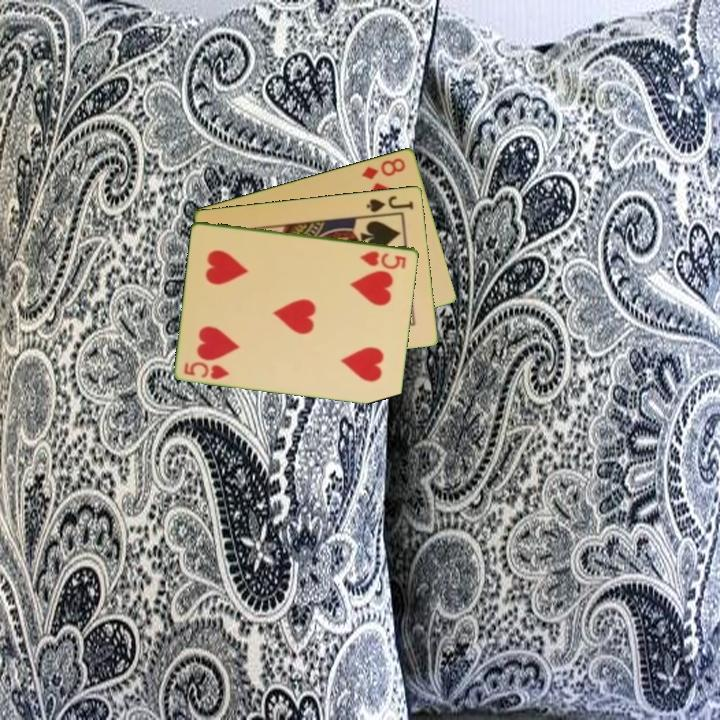5h: (357, 247, 409, 271), (181, 358, 232, 382)
8d: (358, 154, 408, 182)
Js: (363, 192, 416, 215)
